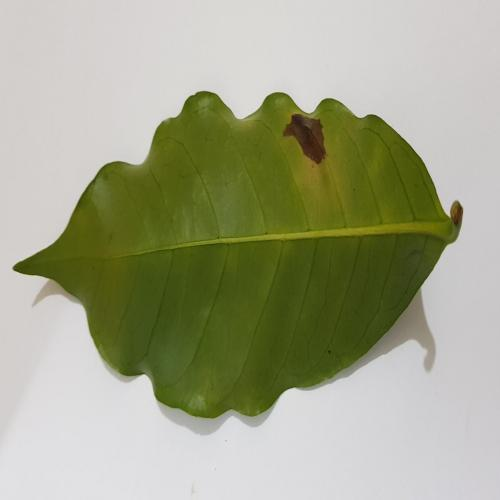leaf: (284, 115, 326, 164)
